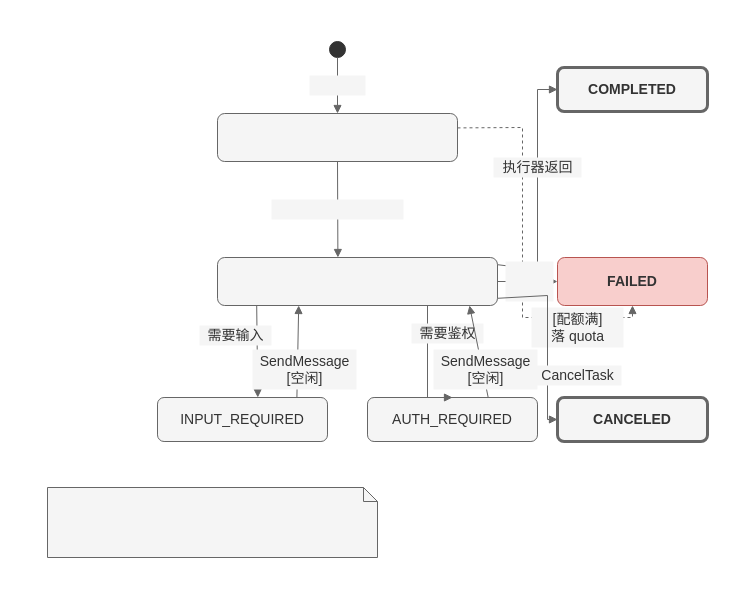
Some shapes in this 734 by 594 pixel diagram are drawn without their labels. The shapes that lost their labels are listed below. From the top down, each one's box as (x1, y1, x2, y2) in pixels, then its label:
(309, 75, 365, 95): 建任务
(216, 112, 458, 162): SUBMITTED
(271, 199, 403, 219): runTask / 取执行器
(216, 256, 498, 306): WORKING
(505, 261, 553, 301): 异常 超时
(46, 486, 378, 558): 门禁在建任务之前裁决， REJECTED 不会出现
